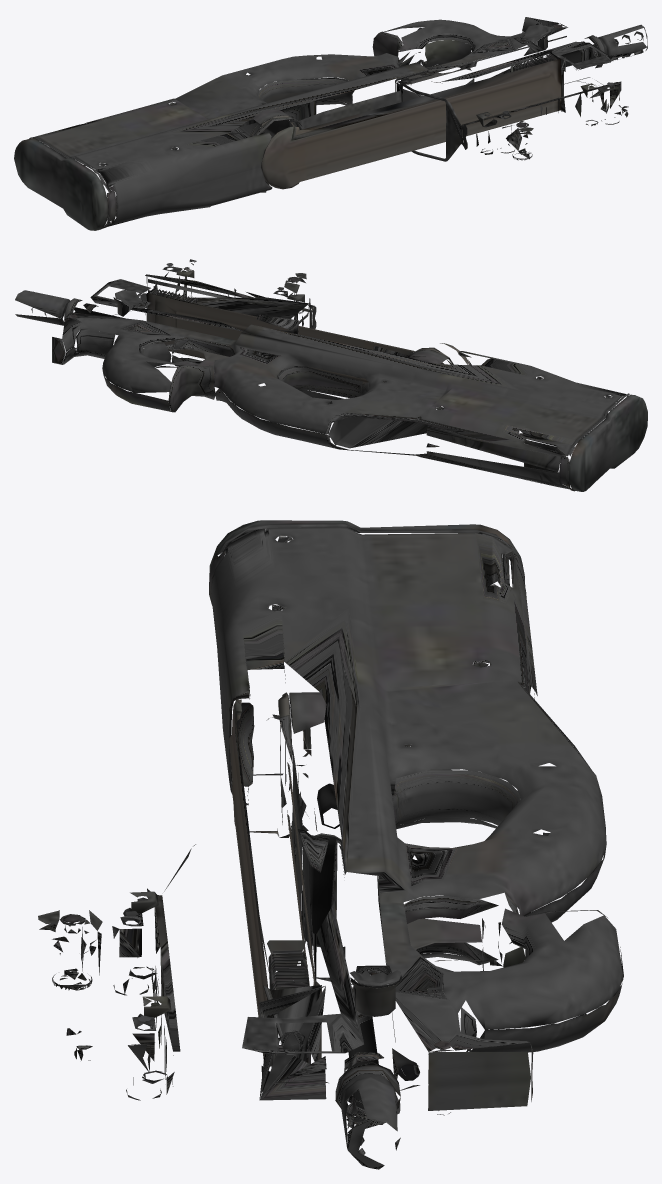
3 views of the same model, one above another, from view 1: azimuth 30°, elevation 25°; view 2: azimuth 150°, elevation 25°; view 3: azimuth 270°, elevation 25° (orthographic). The views are drawn at different scales.
Parts seen in each view (by area): view 1: w_p90; view 2: w_p90; view 3: w_p90.
Part boxes in pixels (<box>): w_p90: <box>14,17,647,230</box>; w_p90: <box>15,259,647,491</box>; w_p90: <box>38,520,623,1169</box>.
Size of the model in its own units: 0.6407 by 0.0713 by 0.2733.
2 materials, 2 textured.
